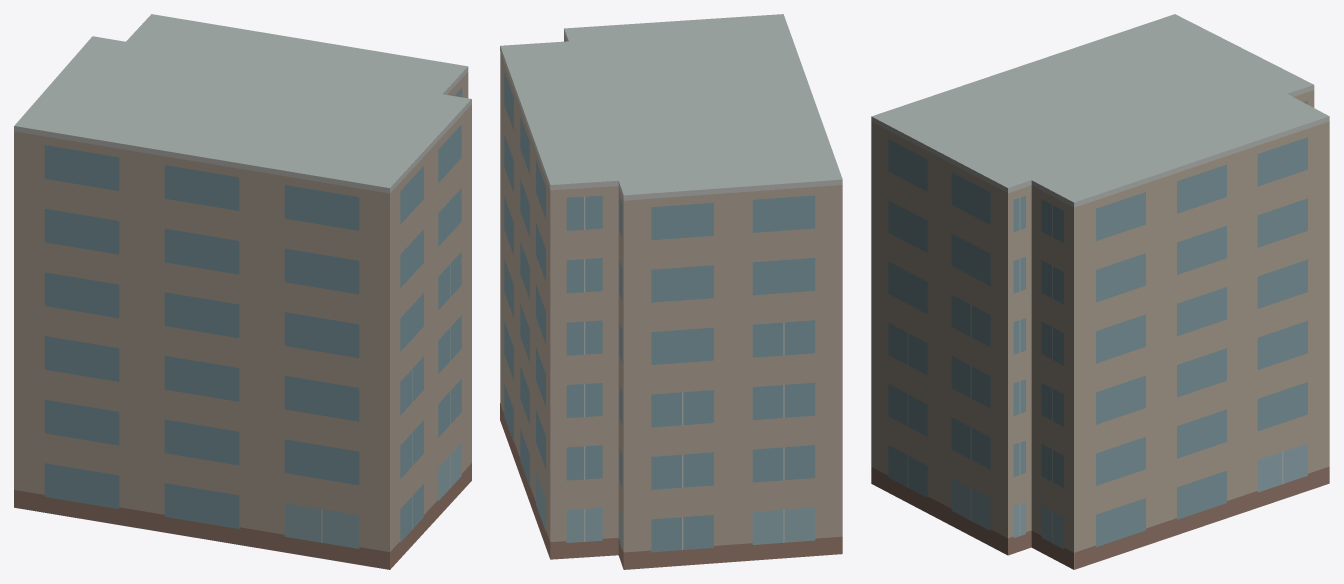
Rendered from survey-upis-33008695.glb.
The picture shows the model from 3 angles, left to right: view 1: azimuth 30°, elevation 25°; view 2: azimuth 150°, elevation 25°; view 3: azimuth 270°, elevation 25°; orthographic projection. The views are drawn at different scales.
Parts seen in each view (by area): view 1: survey-upis-33008695.tmp; view 2: survey-upis-33008695.tmp; view 3: survey-upis-33008695.tmp.
Part boxes in pixels (left/top/right/bottom): survey-upis-33008695.tmp: left=14, top=14, right=471, bottom=569; survey-upis-33008695.tmp: left=500, top=14, right=842, bottom=569; survey-upis-33008695.tmp: left=871, top=14, right=1329, bottom=569.
Size of the model in its own units: 19.06 by 17.3 by 19.57.
